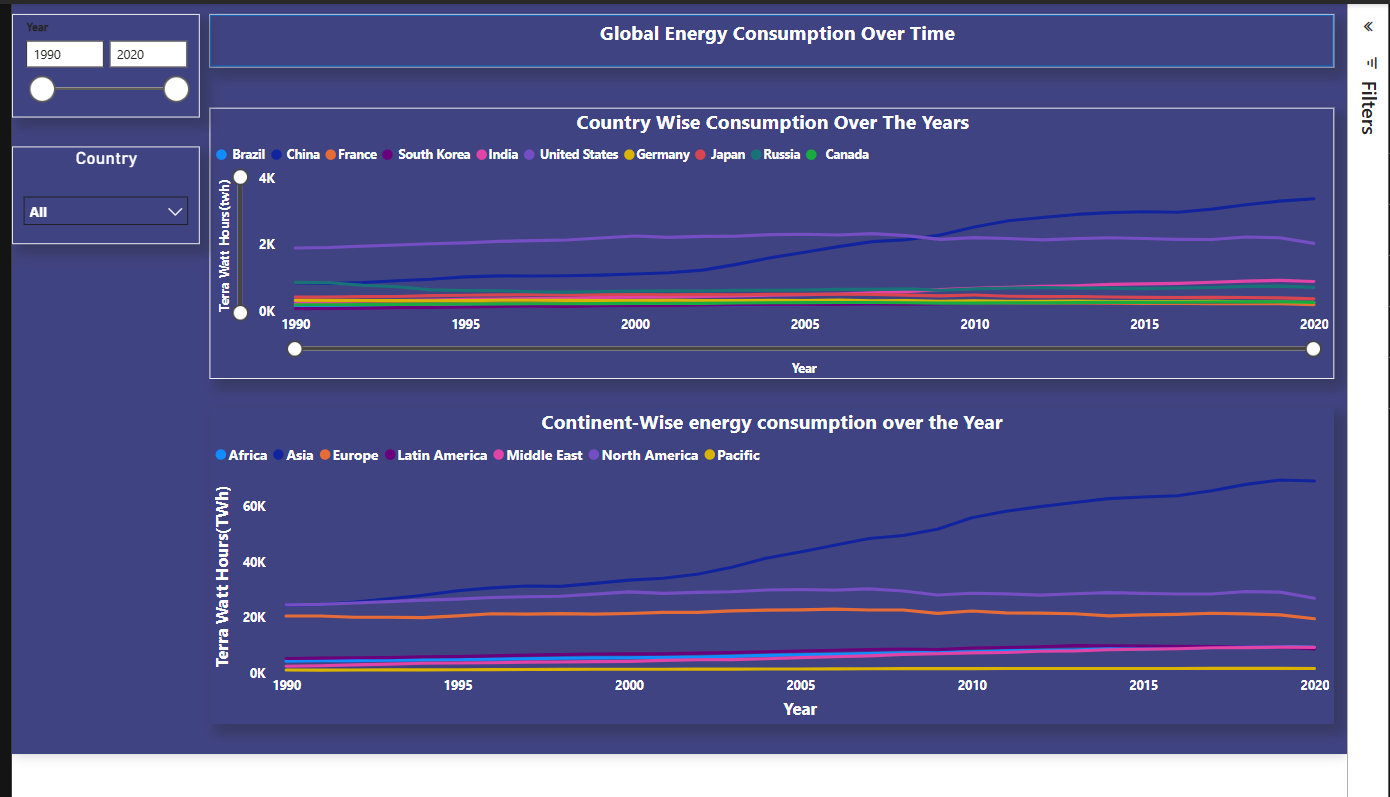

Layout of this report page (visuals, bound fields, positions):
{"tool":"powerbi","page":{"name":"Page 1","canvas":[1280,720],"ordinal":0},"visuals":[{"type":"shape","box":[189.4,9.6,1078.7,51.5],"z":0},{"type":"textbox","box":[479.4,9.6,509.4,44.3],"z":1000},{"type":"lineChart","title":" Country Wise Consumption Over The Years","fields":{"Category":["Country_Consumption_TWH.Year"],"Y":["Sum(Country_Consumption_TWH.Brazil)","Sum(Country_Consumption_TWH.China)","Sum(Country_Consumption_TWH.France)","Sum(Country_Consumption_TWH.South Korea)","Sum(Country_Consumption_TWH.India)","Sum(Country_Consumption_TWH.United States)","Sum(Country_Consumption_TWH.Germany)","Sum(Country_Consumption_TWH.Japan)","Sum(Country_Consumption_TWH.Russia)","Sum(Country_Consumption_TWH.Canada)"]},"box":[189.4,99.5,1078.7,260.1],"z":2000},{"type":"lineChart","title":"Continent-Wise energy consumption over the Year","fields":{"Category":["Continent_Consumption_TWH.Year"],"Y":["Continent_Consumption_TWH.sAfrrica","Continent_Consumption_TWH.Sasia","Continent_Consumption_TWH.Seurope","Continent_Consumption_TWH.SLA","Continent_Consumption_TWH.SME","Continent_Consumption_TWH.SNA","Continent_Consumption_TWH.SP"]},"box":[189.4,387.1,1078.7,303.2],"z":3000},{"type":"slicer","fields":{"Values":["Continent_Consumption_TWH.Year"]},"box":[0,9.6,179.8,99.5],"z":4000},{"type":"slicer","title":"Country","fields":{"Values":["Country_Consumption_TWH.Algeria","Country_Consumption_TWH.Argentina","Country_Consumption_TWH.Australia","Country_Consumption_TWH.Belgium","Country_Consumption_TWH.Canada","Country_Consumption_TWH.Venezuela","Country_Consumption_TWH.Uzbekistan","Country_Consumption_TWH.United States","Country_Consumption_TWH.United Kingdom","Country_Consumption_TWH.United Arab Emirates","Country_Consumption_TWH.Ukraine","Country_Consumption_TWH.Turkey"]},"box":[0,136.6,179.8,93.5],"z":4001}]}

Visuals, with their boxes on the page's 1280x720 design canvas (x1, y1, x2, y2). These are canvas units, not pixel positions in the 1390x797 screenshot, which may show the page scaled, cropped or inside an application window:
shape: crop(189, 10, 1268, 61)
textbox: crop(479, 10, 989, 54)
" Country Wise Consumption Over The Years" lineChart: crop(189, 100, 1268, 360)
"Continent-Wise energy consumption over the Year" lineChart: crop(189, 387, 1268, 690)
slicer - Continent_Consumption_TWH.Year: crop(0, 10, 180, 109)
"Country" slicer: crop(0, 137, 180, 230)
